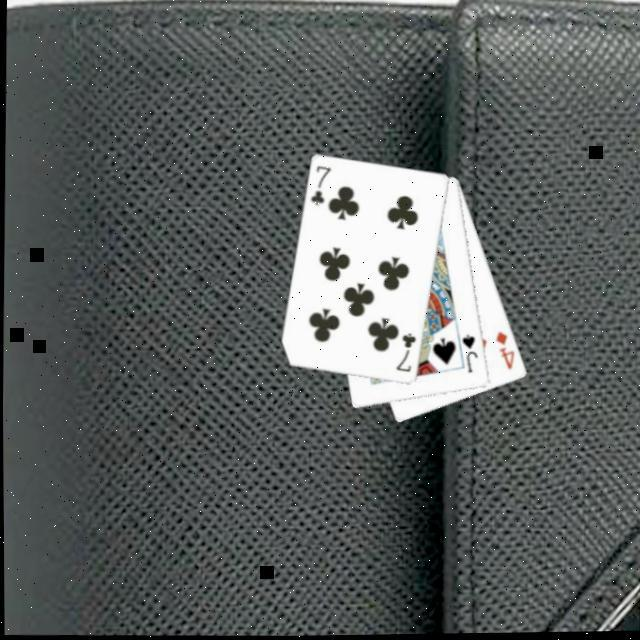4D: (492, 328, 518, 372)
7C: (392, 330, 420, 375), (307, 162, 334, 208)
JS: (458, 331, 482, 375)
